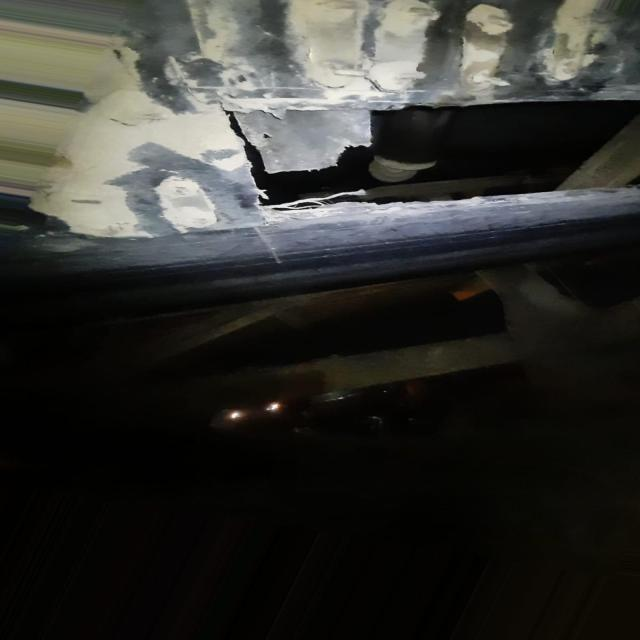Hole: (229, 104, 640, 209)
